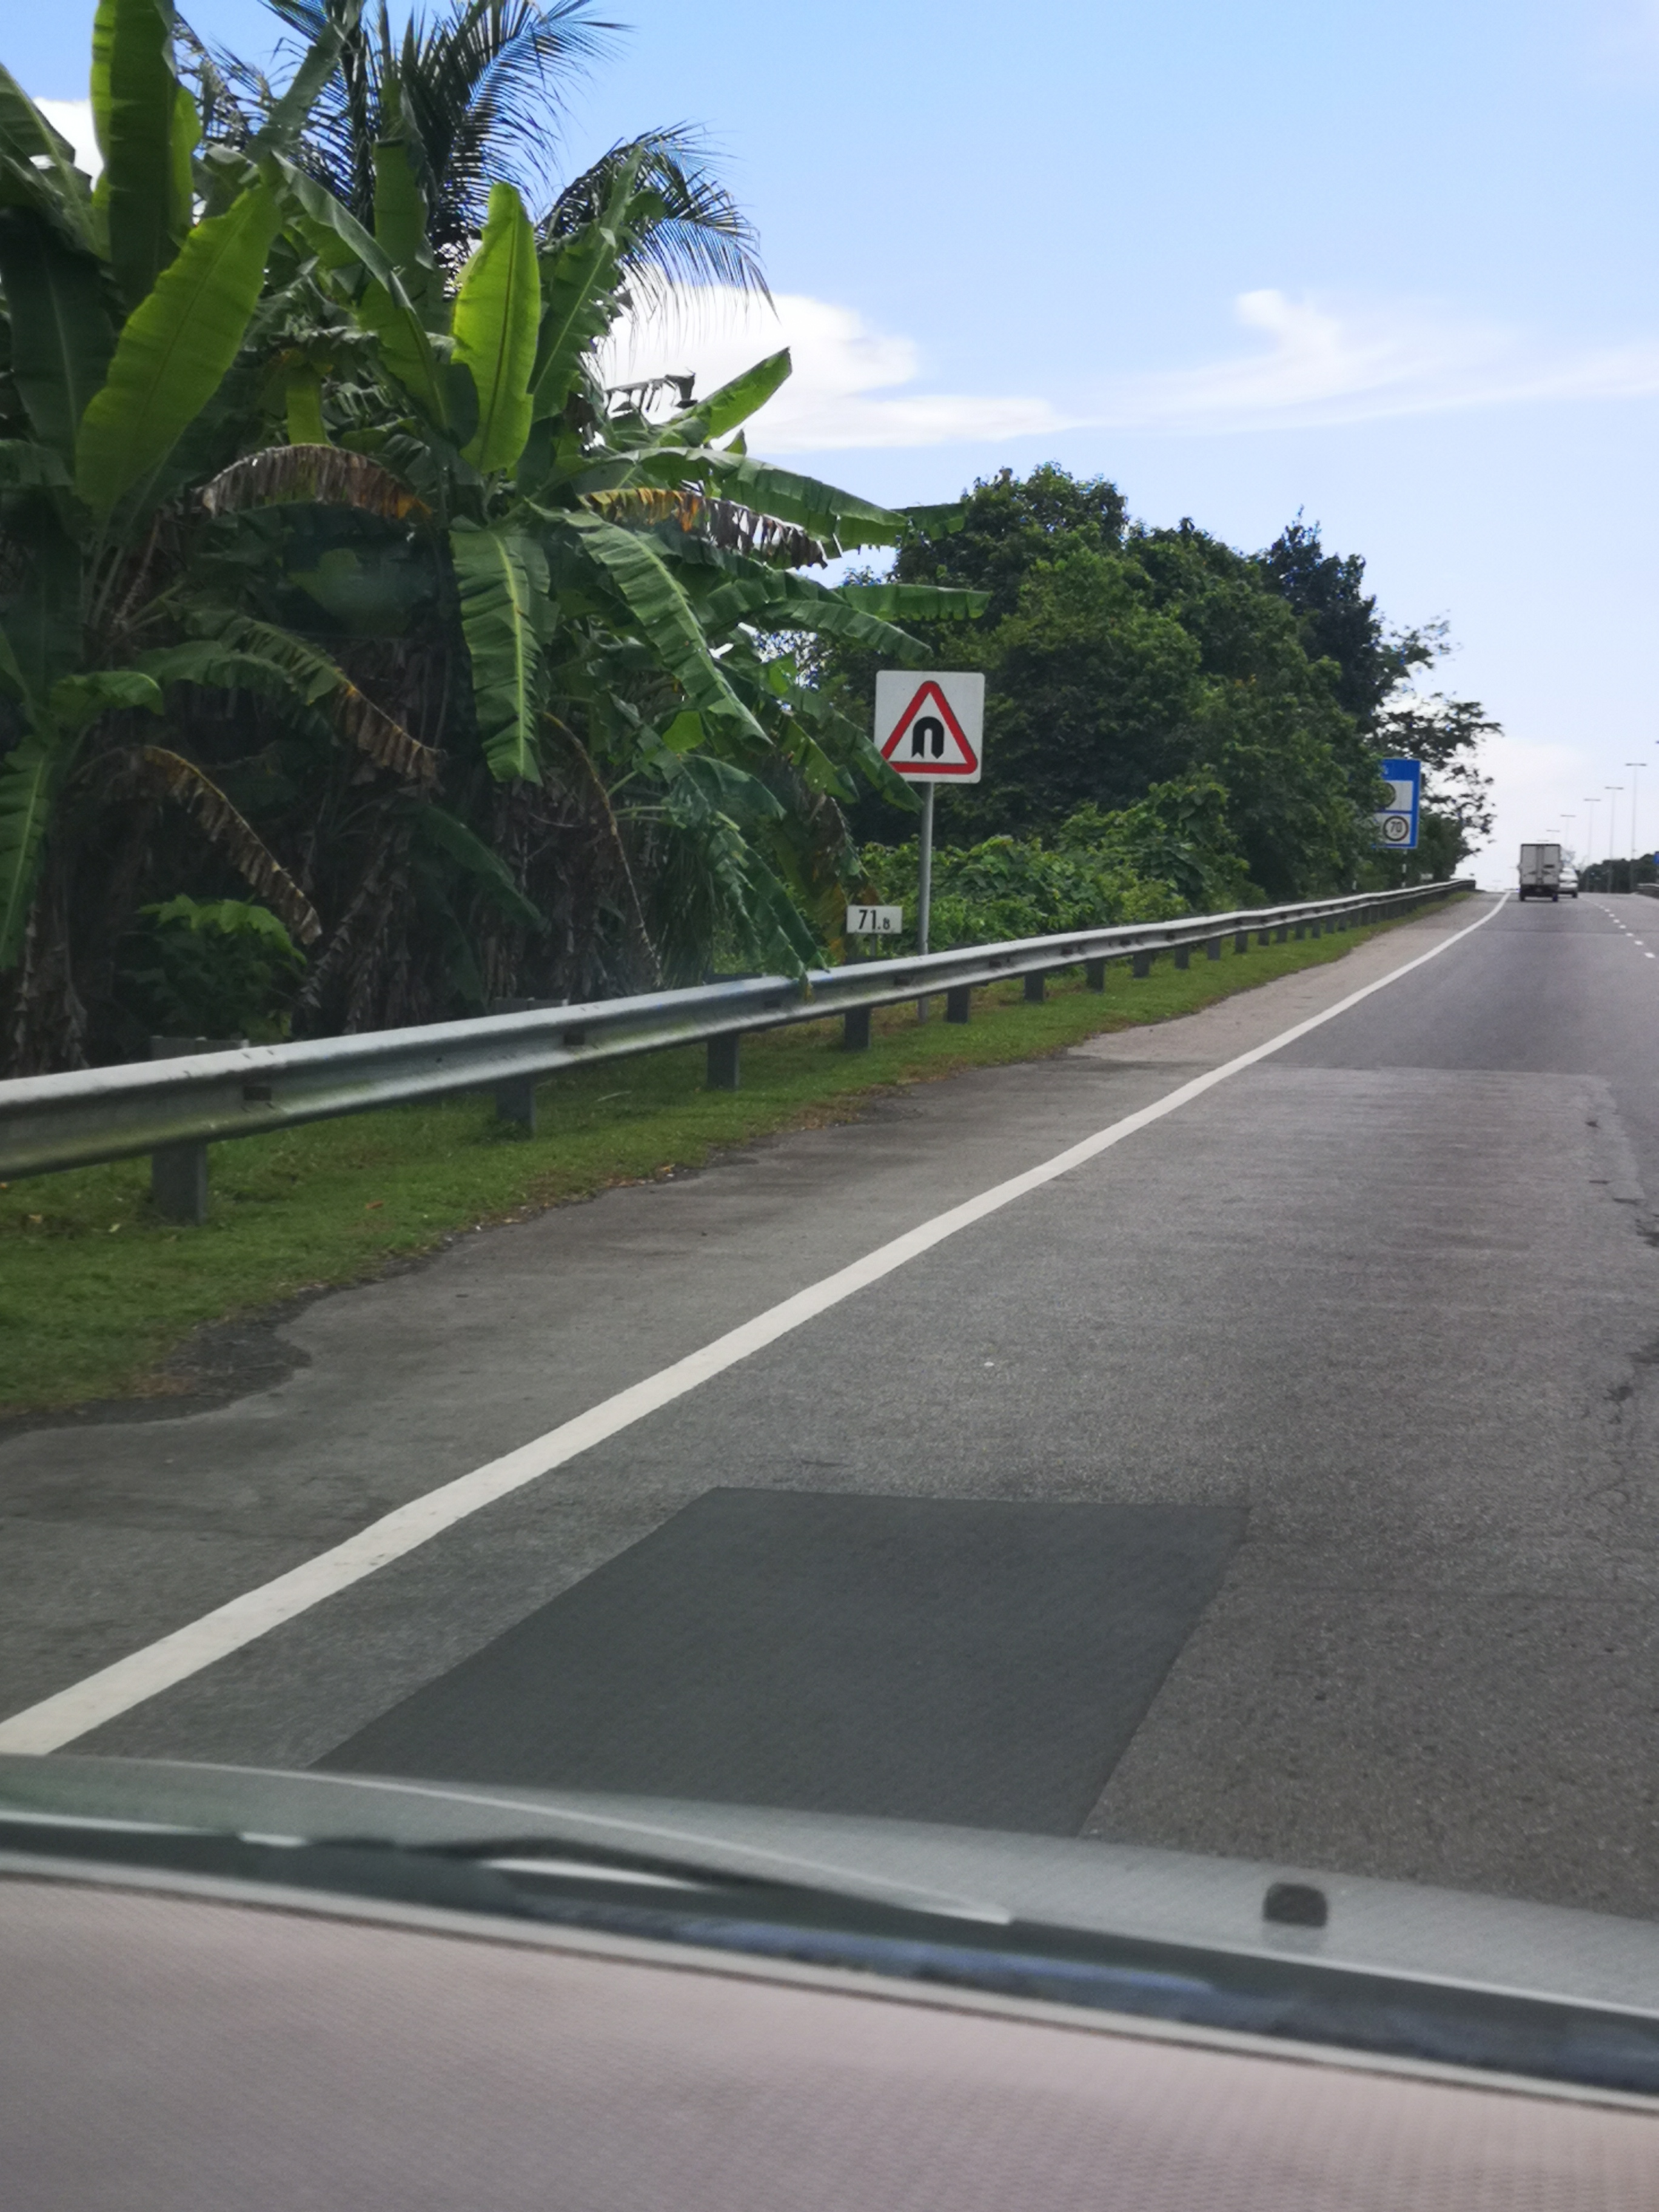U-turn: (868, 657, 995, 791)
